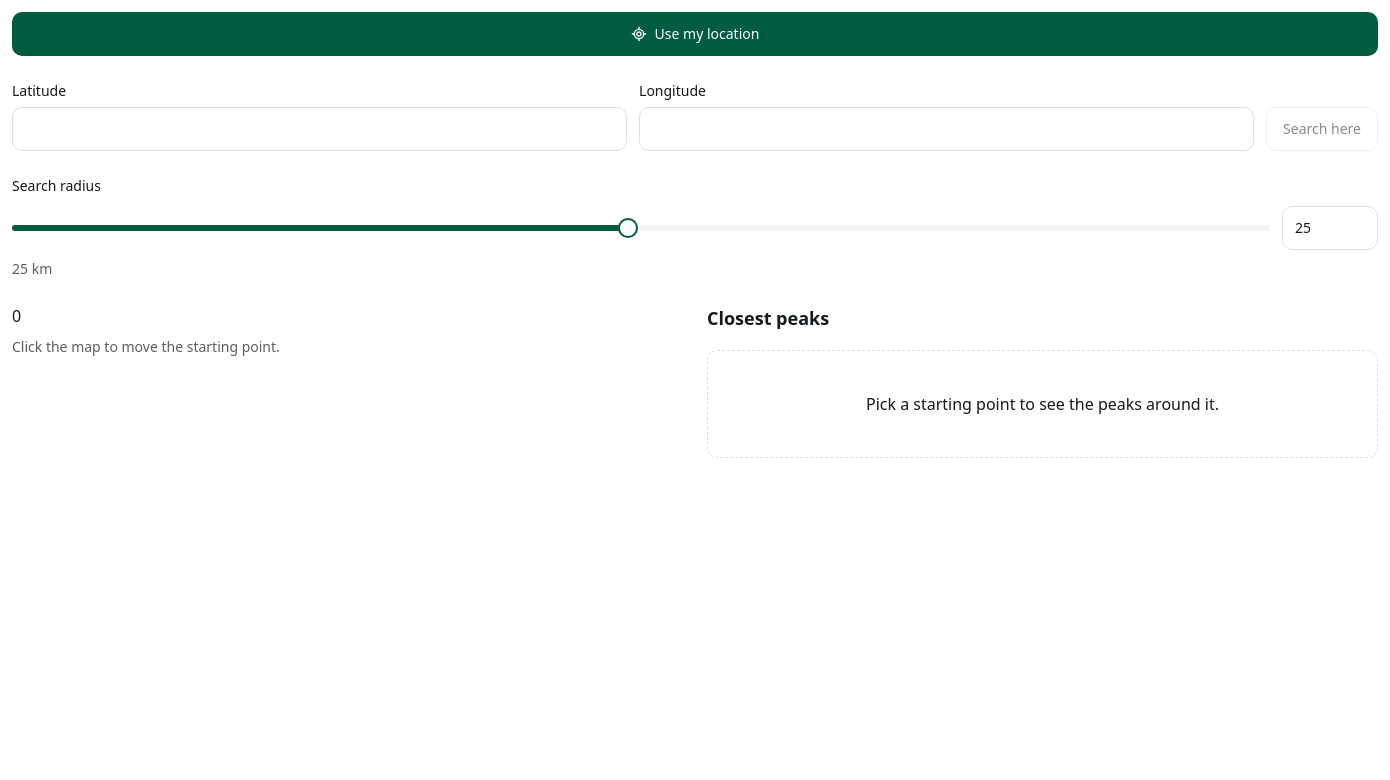
Test: NearbyPeaksView › nearbyPeaksView_domainRejection_showsTheTranslatedErrorNotARetryLoop
Step 1. Type "42.6" into the field labelled "Latitude" → (320, 129), box [12,107,627,151]
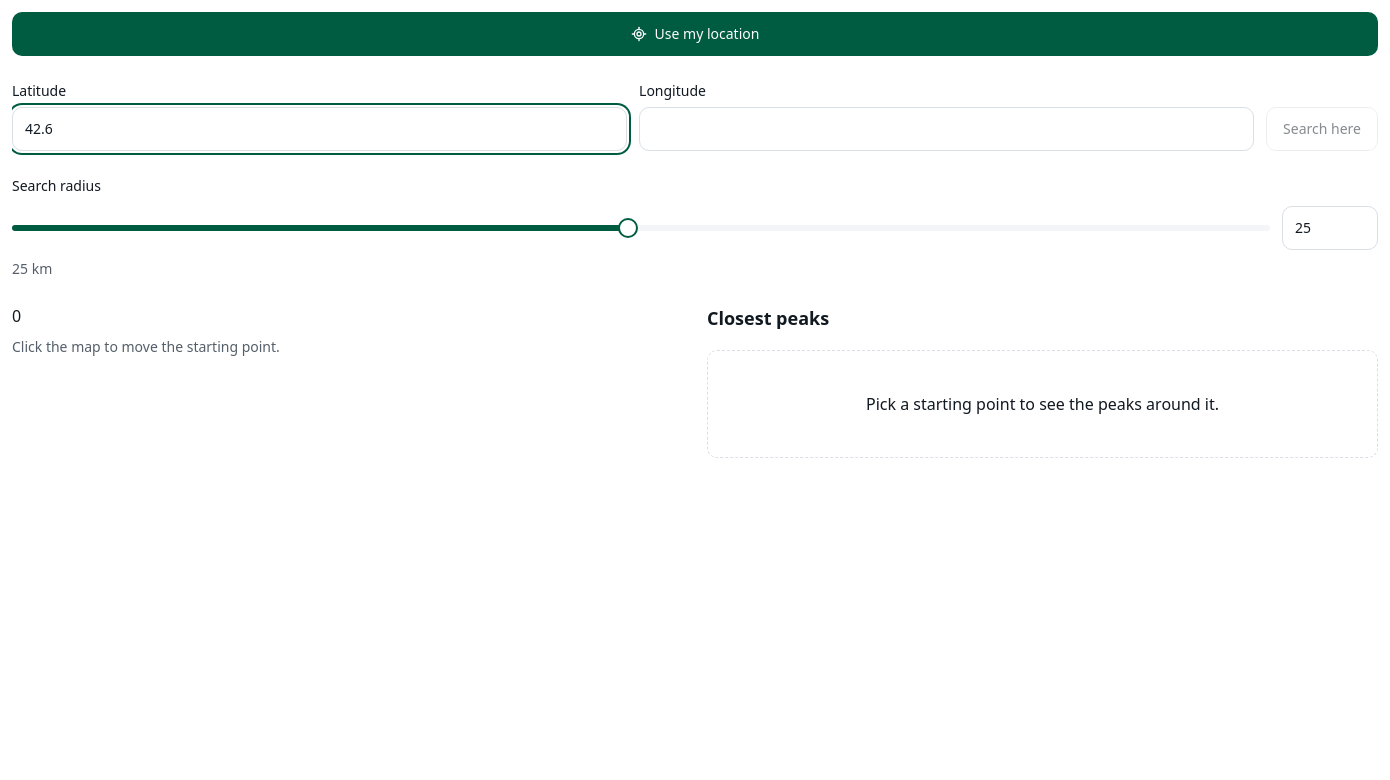
Step 2. Type "0.6" into the field labelled "Longitude" → (946, 129), box [639,107,1254,151]
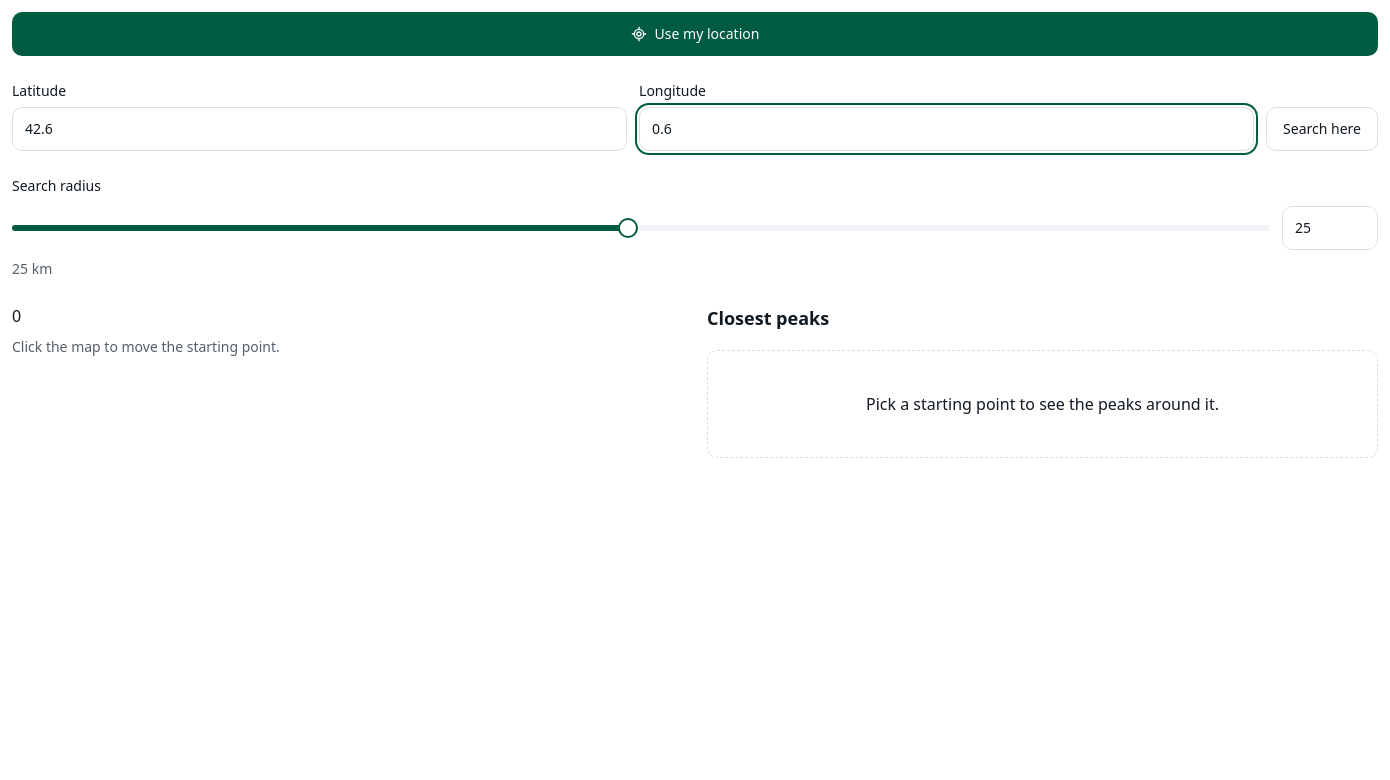
Step 3. Click the button "Search here" → (1322, 129), box [1266,107,1378,151]
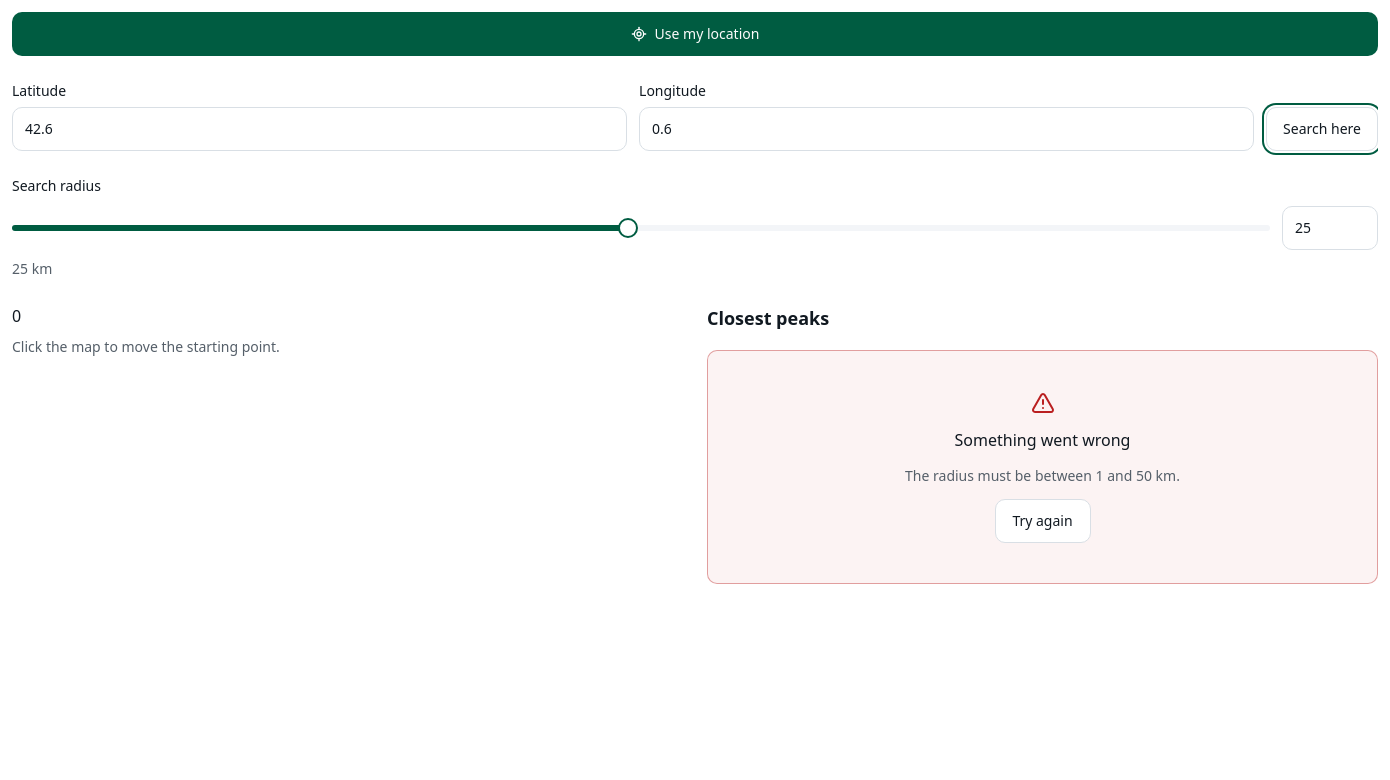
Expected: the text "The radius must be between 1 and 50 km." is shown, [905,464,1180,487]
Expected: the message "Something went wrong The radius must be between 1 and 50 km. Try again" is shown, [707,350,1378,584]
